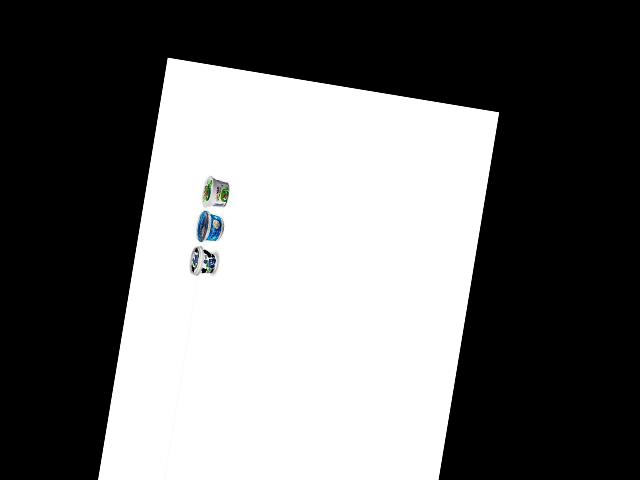cotage: (198, 172, 234, 212)
